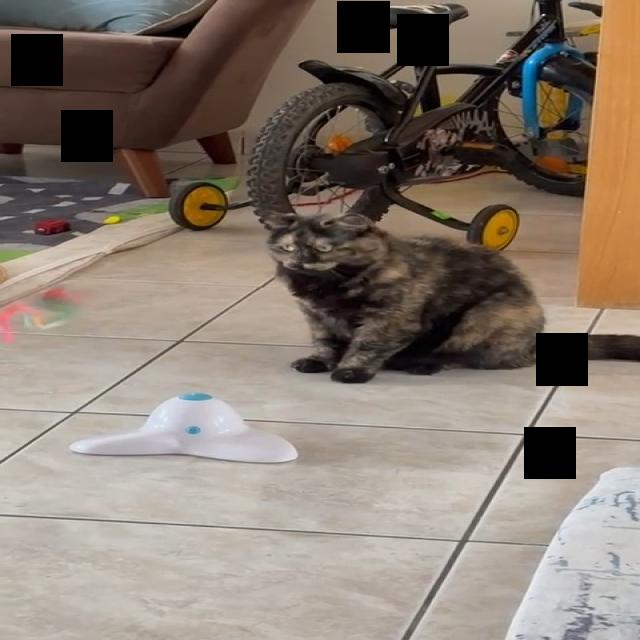authorized: (262, 210, 638, 384)
